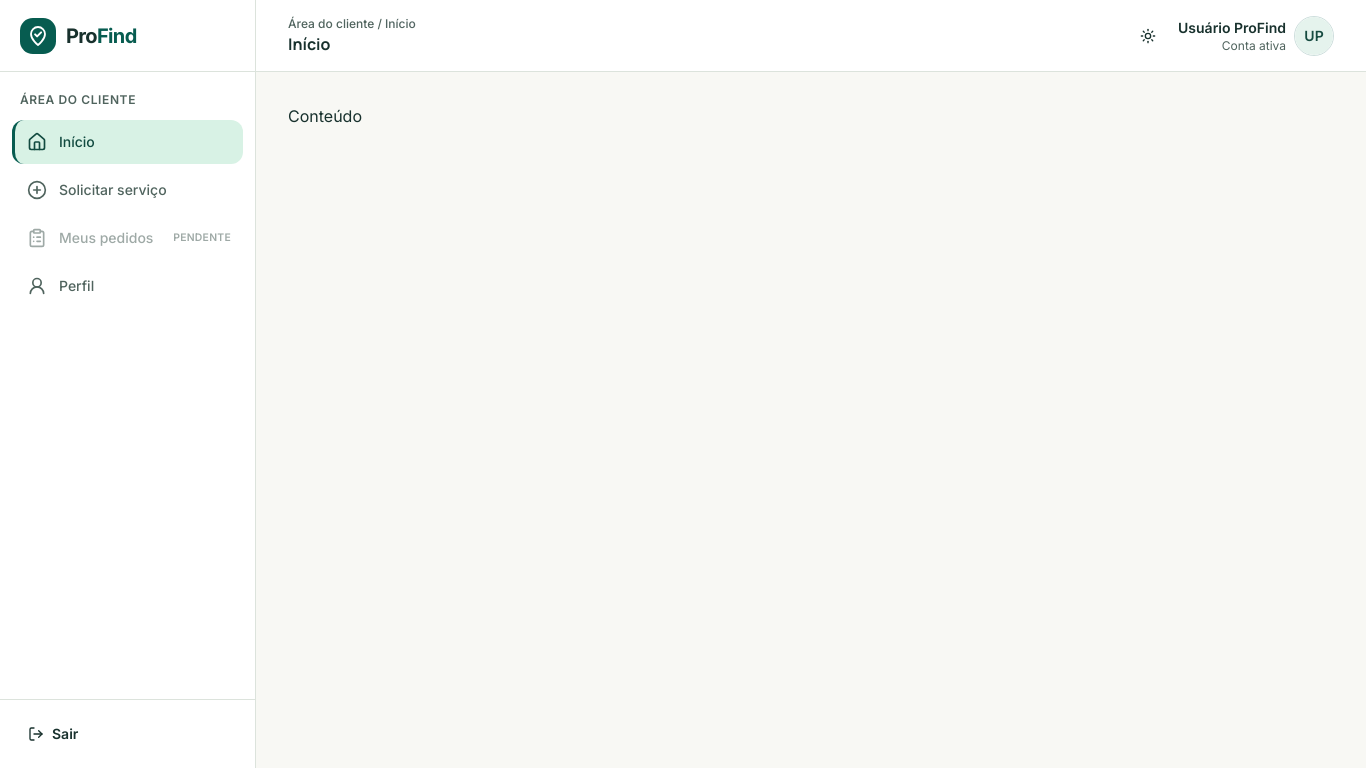
Test: layouts autenticados › mantém o logout recuperável quando o fluxo existente falha
(page scrolled)
Click the button "Sair": (128, 734) left=12, top=712, right=243, bottom=756
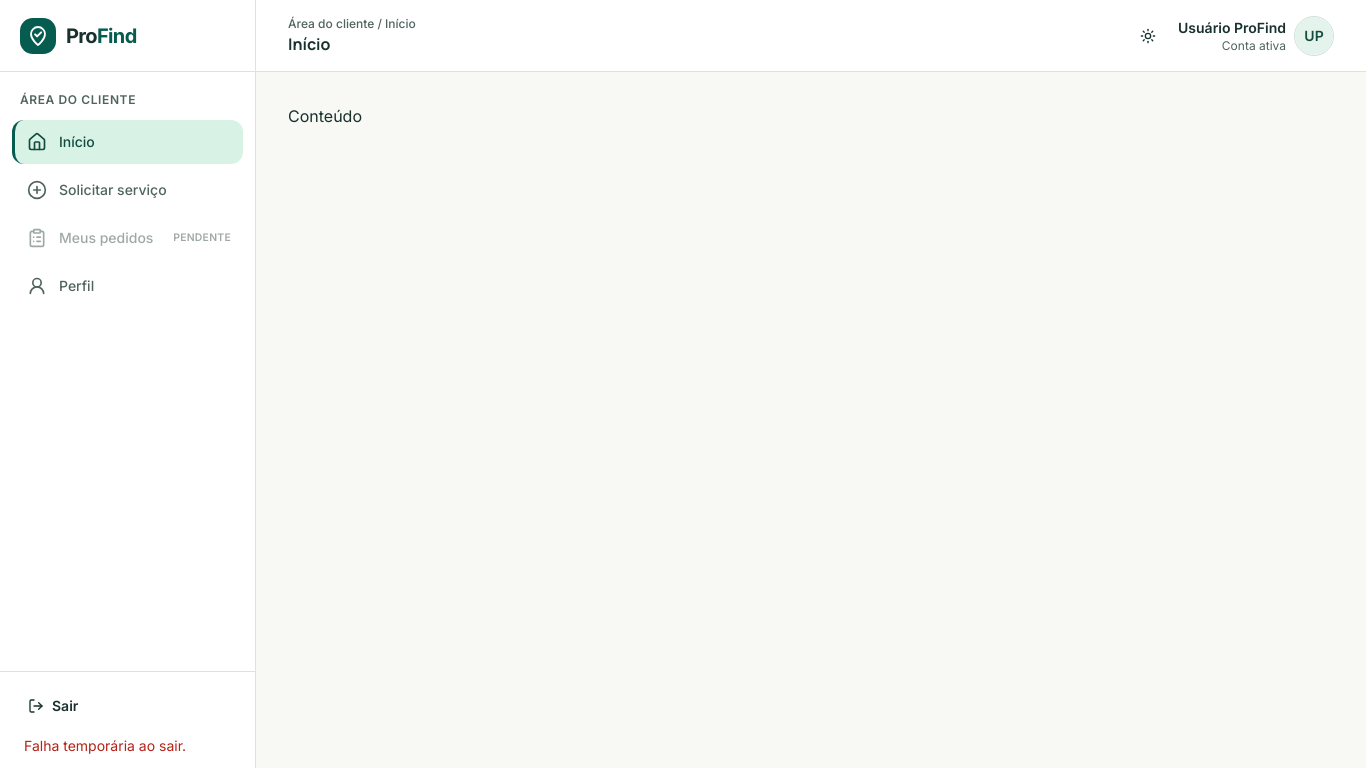
Expected: the button "Sair" is enabled, left=12, top=684, right=243, bottom=728
Now the message reads "Falha temporária ao sair.", box left=24, top=737, right=186, bottom=754
